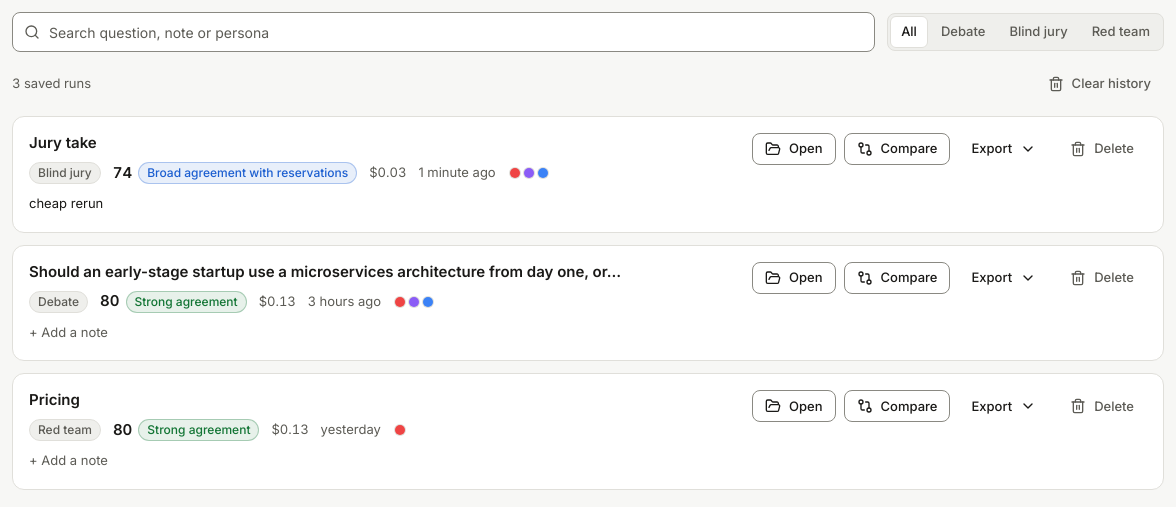
Test: RunList › searches title, question, note and persona names
Type "enterprise" into the search field named "Search runs".
click(444, 32); type("enterprise")  # box [12, 12, 875, 52]
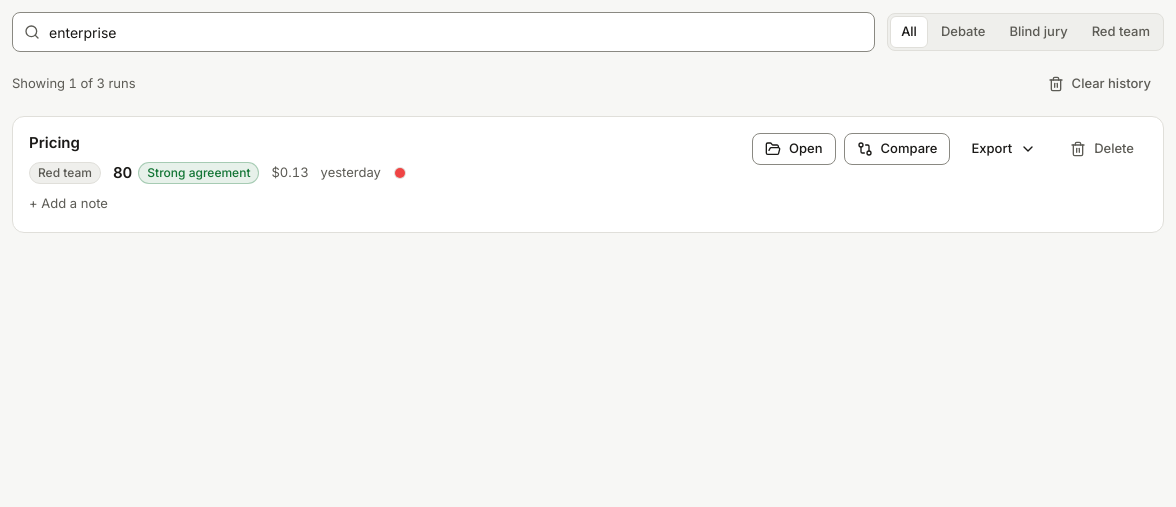
Expected: the text "Showing 1 of 3 runs" is shown, [12, 74, 136, 94]
Replace the text in the search field named "Search runs" with "CHEAP" at coordinates (444, 32), box [12, 12, 875, 52]
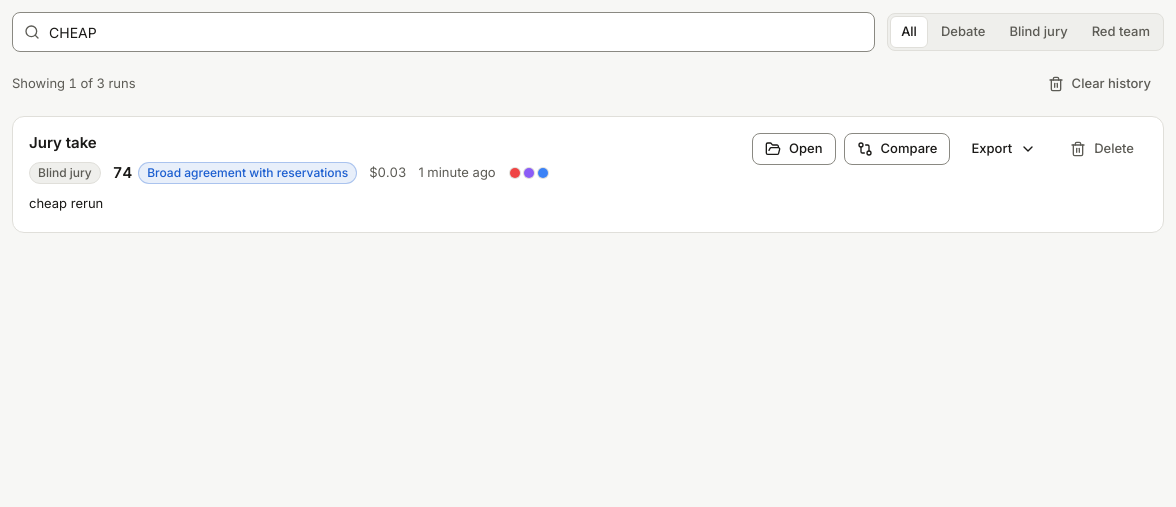
Replace the text in the search field named "Search runs" with "optimistic futurist" at coordinates (444, 32), box [12, 12, 875, 52]
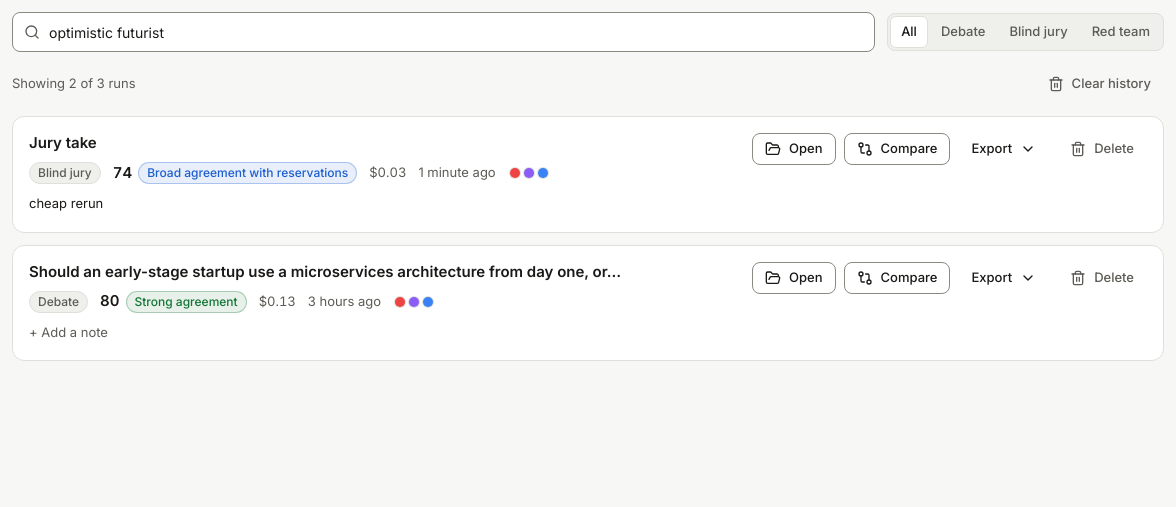
Replace the text in the search field named "Search runs" with "nothing-matches-this" at coordinates (444, 32), box [12, 12, 875, 52]
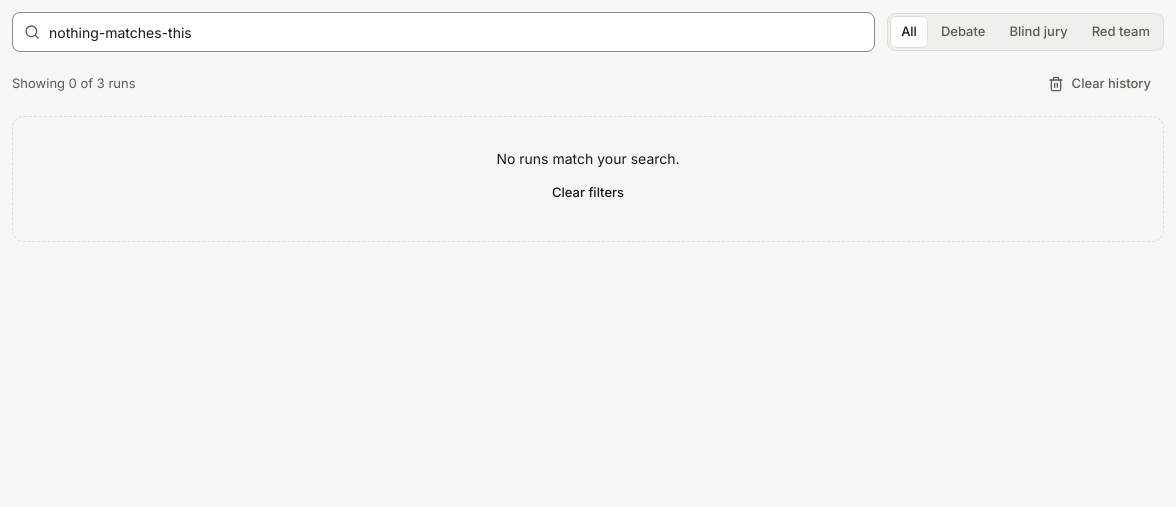
Expected: the text "No runs match your search." is shown, [496, 150, 680, 167]
Click the button "Clear filters".
click(588, 193)  # box [539, 177, 637, 209]
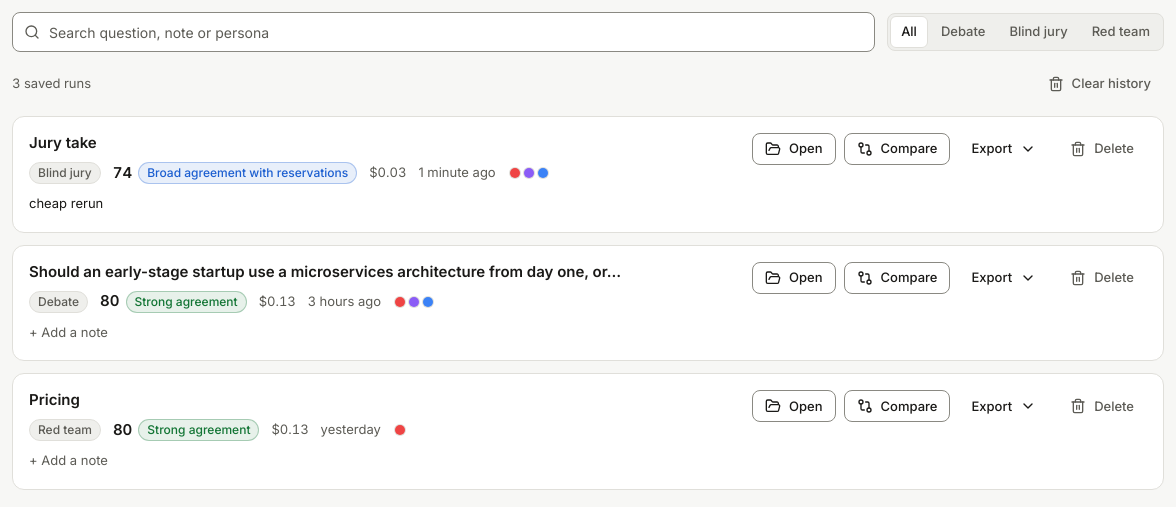
Expected: the search field named "Search runs" is empty, [12, 12, 875, 52]
Expected: the number of headings is 3, [29, 133, 97, 152]; [29, 262, 621, 281]; [29, 390, 80, 409]
